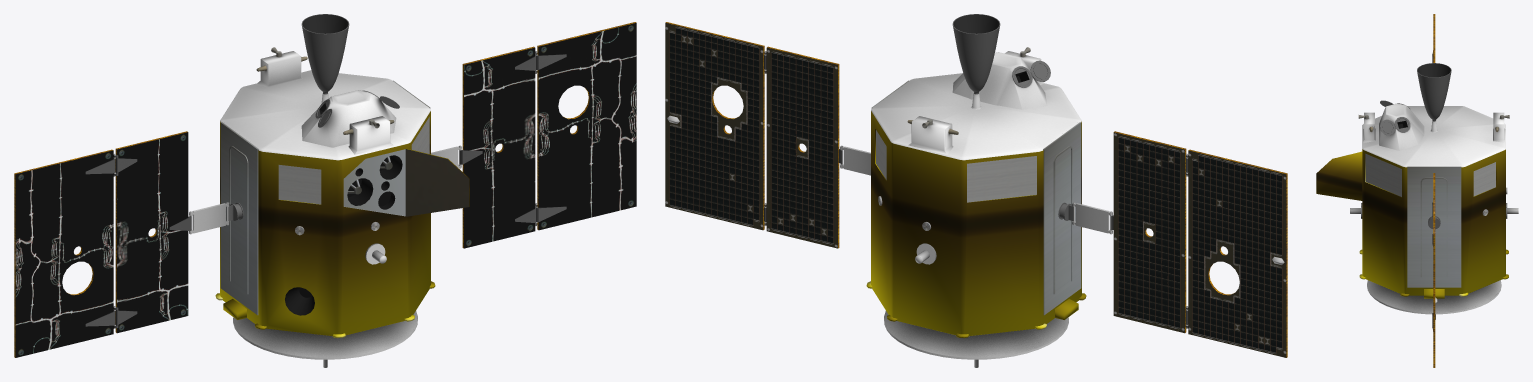
The model's file is Clementine.glb.
3 renders of one model, left to right at view 1: azimuth 30°, elevation 25°; view 2: azimuth 150°, elevation 25°; view 3: azimuth 270°, elevation 25°, orthographic. The views are drawn at different scales.
Visible parts, largest first — view 1: tex_01, foil_gold, foil_white, AO_dish, AO_hinges; view 2: shiny_panel, foil_gold, tex_01, foil_white, AO_dish, AO_hinges; view 3: foil_gold, tex_01, foil_white, AO_dish.
Boxes of the visible parts, x1,y1,x2,y2 form: tex_01: (14,14,636,357); foil_gold: (215,111,469,338); foil_white: (220,51,430,160); AO_dish: (233,243,417,367); AO_hinges: (85,51,566,328); shiny_panel: (665,23,1286,357); foil_gold: (866,111,1086,338); tex_01: (665,14,1287,357); foil_white: (871,51,1081,160); AO_dish: (884,243,1068,367); AO_hinges: (764,51,1188,328); foil_gold: (1316,149,1508,298); tex_01: (1358,14,1509,367); foil_white: (1362,103,1505,167); AO_dish: (1350,203,1518,319).
Bounding box in the file's own units: 4.13 × 2.18 × 1.6.
7 materials, 6 textured.
